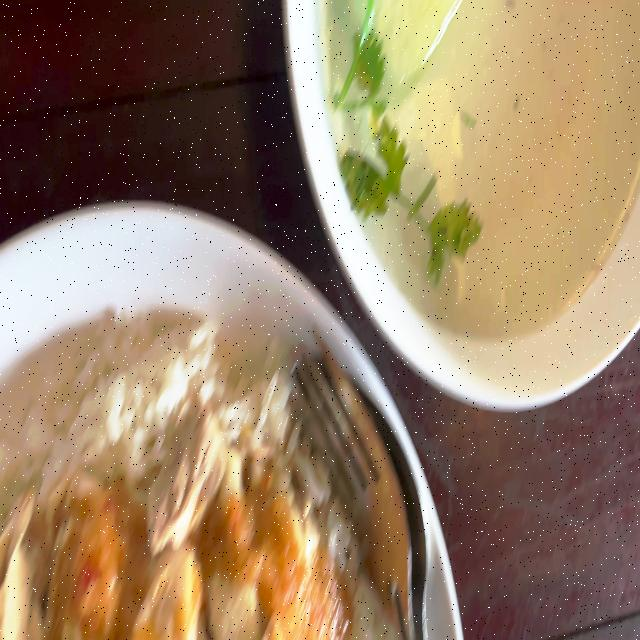boiled_chicken: (10, 409, 318, 639)
chicken_rice: (0, 303, 364, 639)
